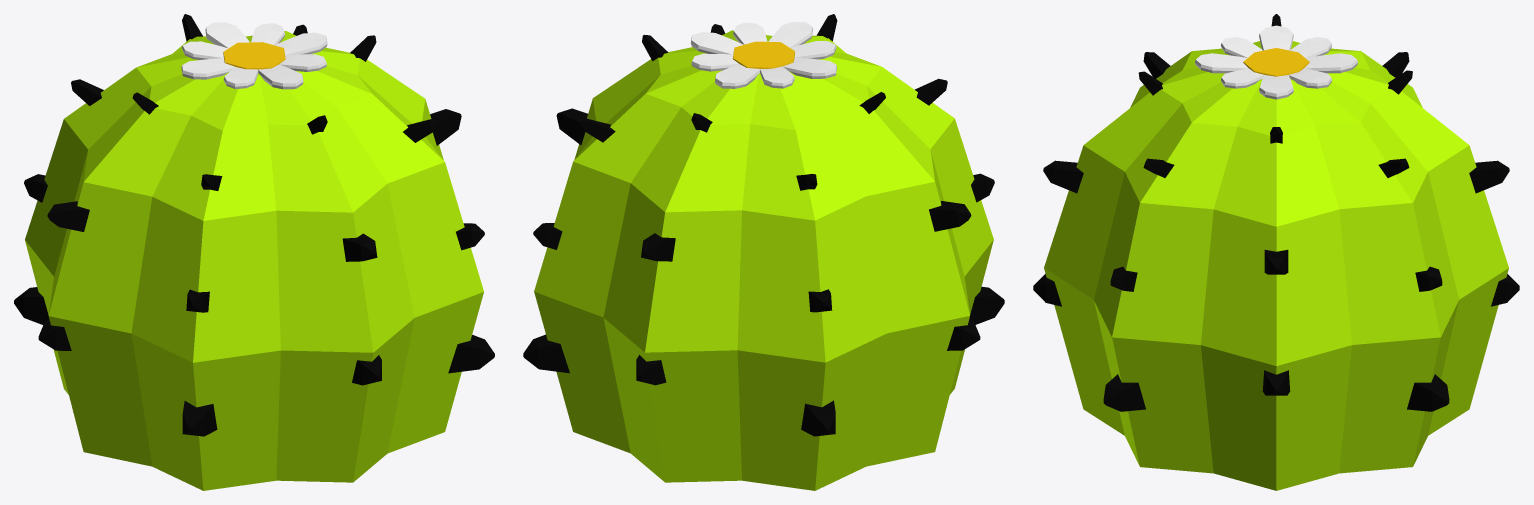
The model's file is Cardon06_00Brazos_Flor_Blanca.fbx.
3 views of the same model, side by side, from view 1: azimuth 30°, elevation 25°; view 2: azimuth 150°, elevation 25°; view 3: azimuth 270°, elevation 25° (orthographic). The views are drawn at different scales.
Parts seen in each view (by area): view 1: Cactus, Espinas, Flor_Blanca; view 2: Cactus, Espinas, Flor_Blanca; view 3: Cactus, Espinas, Flor_Blanca.
Boxes of the visible parts, bbox=[...] form: Cactus: bbox=[25, 31, 483, 490]; Espinas: bbox=[14, 14, 494, 436]; Flor_Blanca: bbox=[181, 22, 327, 89]; Cactus: bbox=[534, 30, 993, 490]; Espinas: bbox=[523, 14, 1004, 436]; Flor_Blanca: bbox=[691, 21, 836, 88]; Cactus: bbox=[1044, 41, 1508, 490]; Espinas: bbox=[1033, 14, 1519, 411]; Flor_Blanca: bbox=[1195, 25, 1357, 99].
Size of the model in its own units: 47.77 by 37.93 by 47.77.
